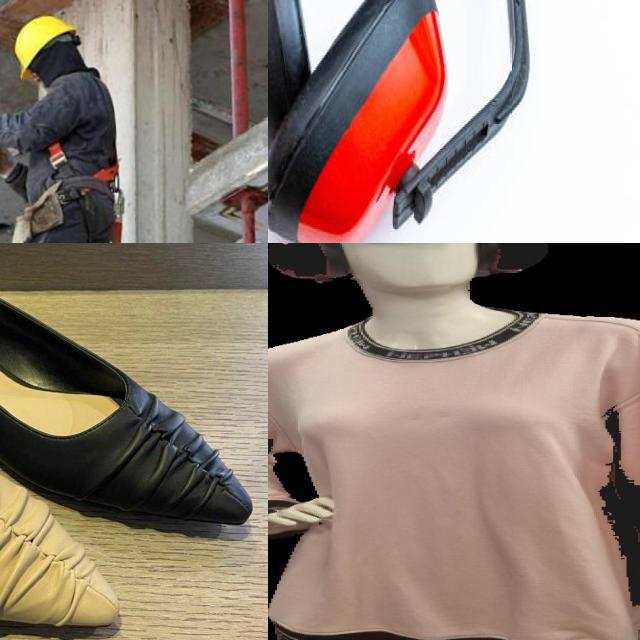Ear-protection: (268, 0, 536, 243), (268, 243, 583, 286)
Harness: (48, 142, 124, 243)
Sandals: (0, 243, 265, 538), (0, 309, 129, 640)
